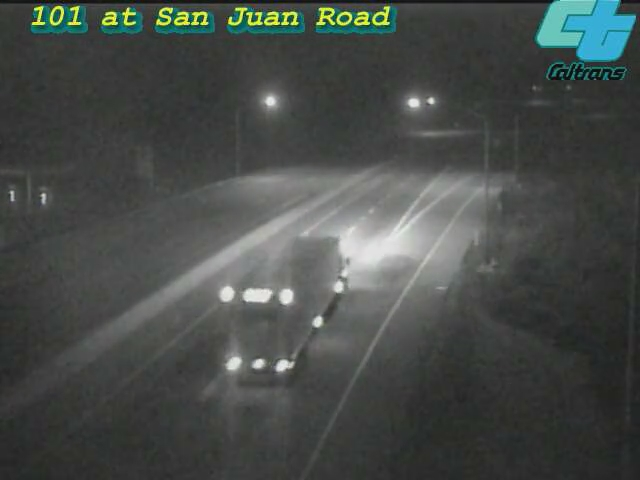vehicle: (244, 266, 324, 346)
